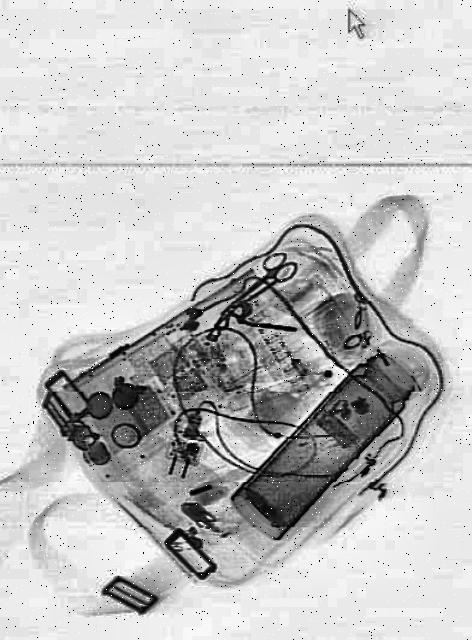Scissors: (228, 240, 298, 314)
